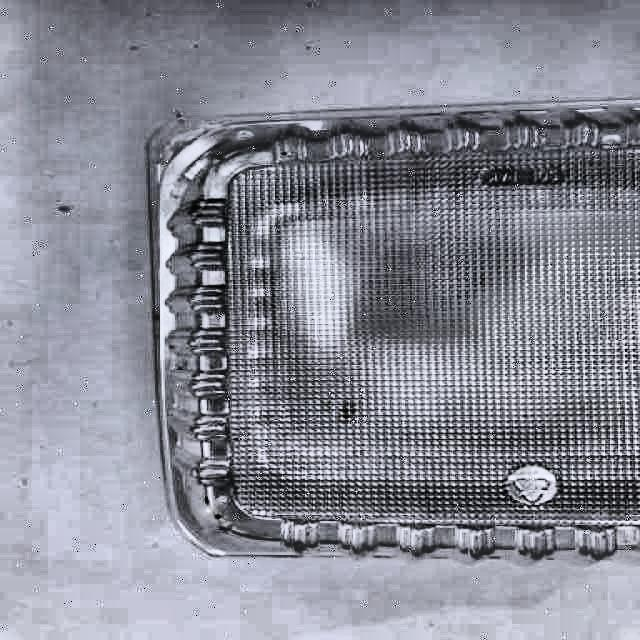plastic: (150, 106, 640, 556)
